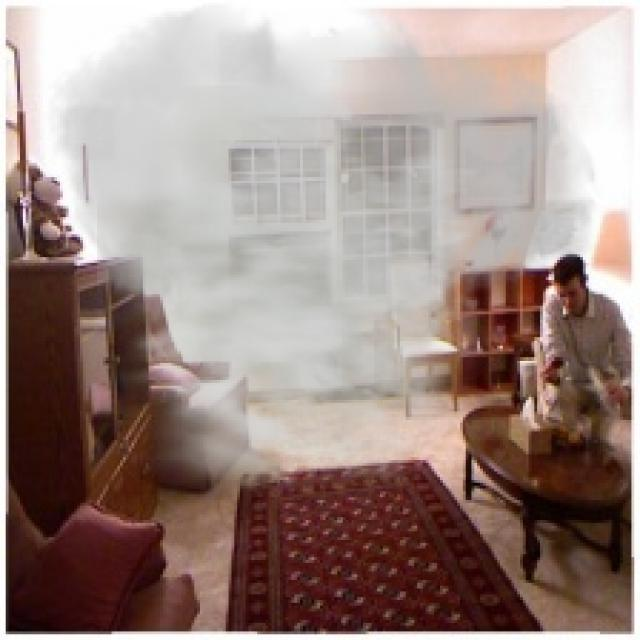Smoke: (43, 0, 604, 515)
